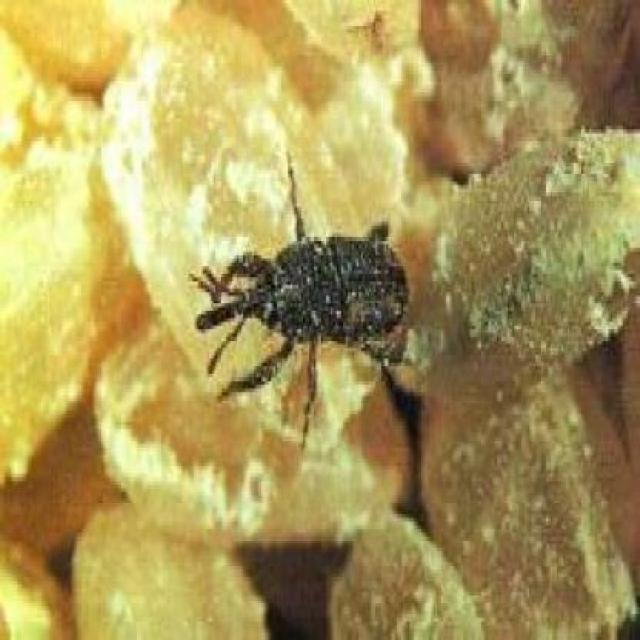rice-bug: (214, 177, 417, 409)
